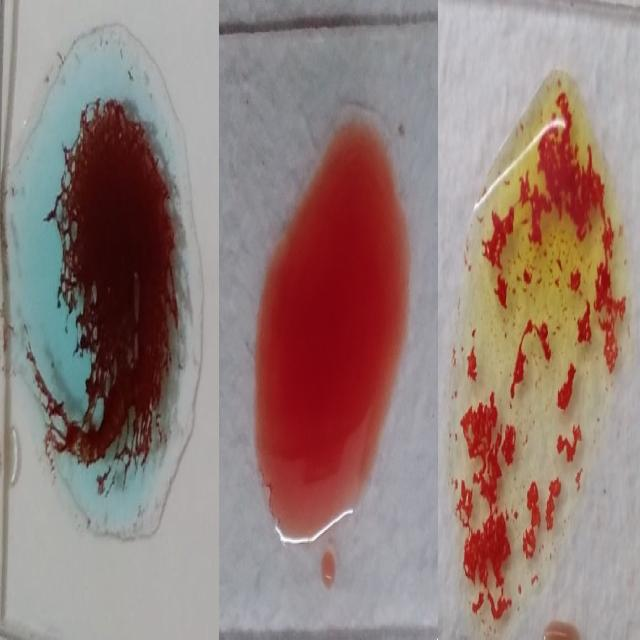A: (17, 34, 202, 533)
B: (446, 66, 626, 624)
